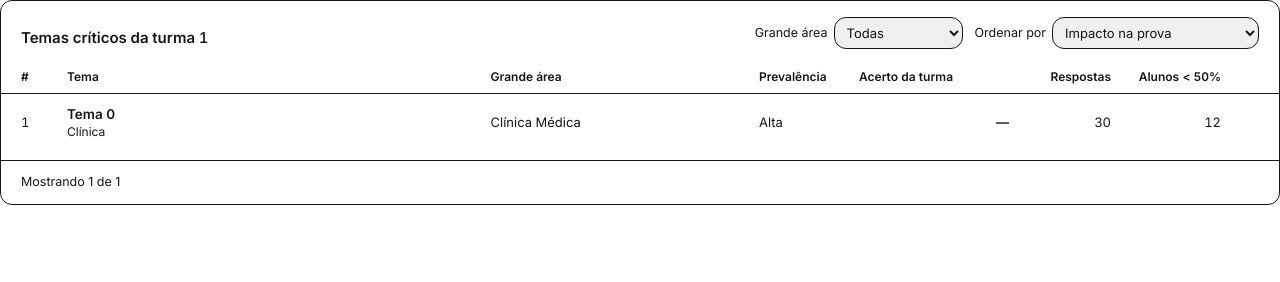
B2C com null mostra — e evolução sem dois pontos não sugere tendência
expect the text "—" is shown: met, box [996,114,1009,130]
Click the button with aria-label "Expandir Tema 0": click(91, 122) [67,104,115,140]
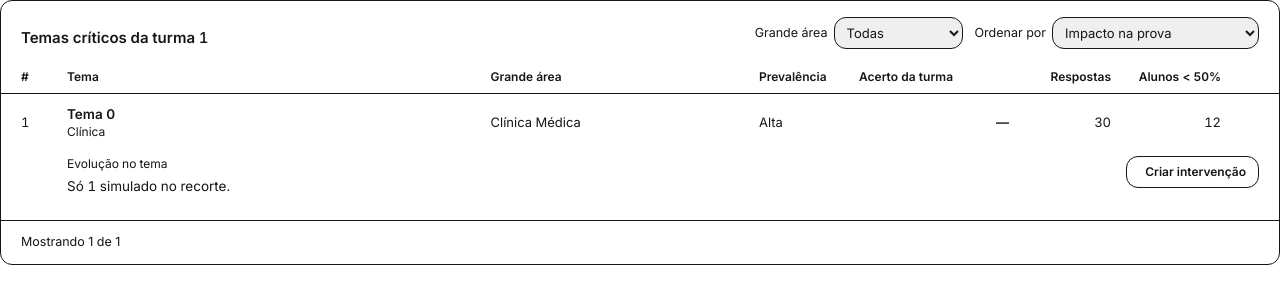
expect the text "Só 1 simulado no recorte." is shown: met, box [67,178,230,194]
